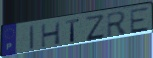E: (129, 6, 150, 35)
H: (41, 20, 62, 49)
I: (29, 24, 35, 51)
R: (106, 10, 129, 39)
T: (65, 18, 81, 43)
Z: (84, 13, 106, 42)
